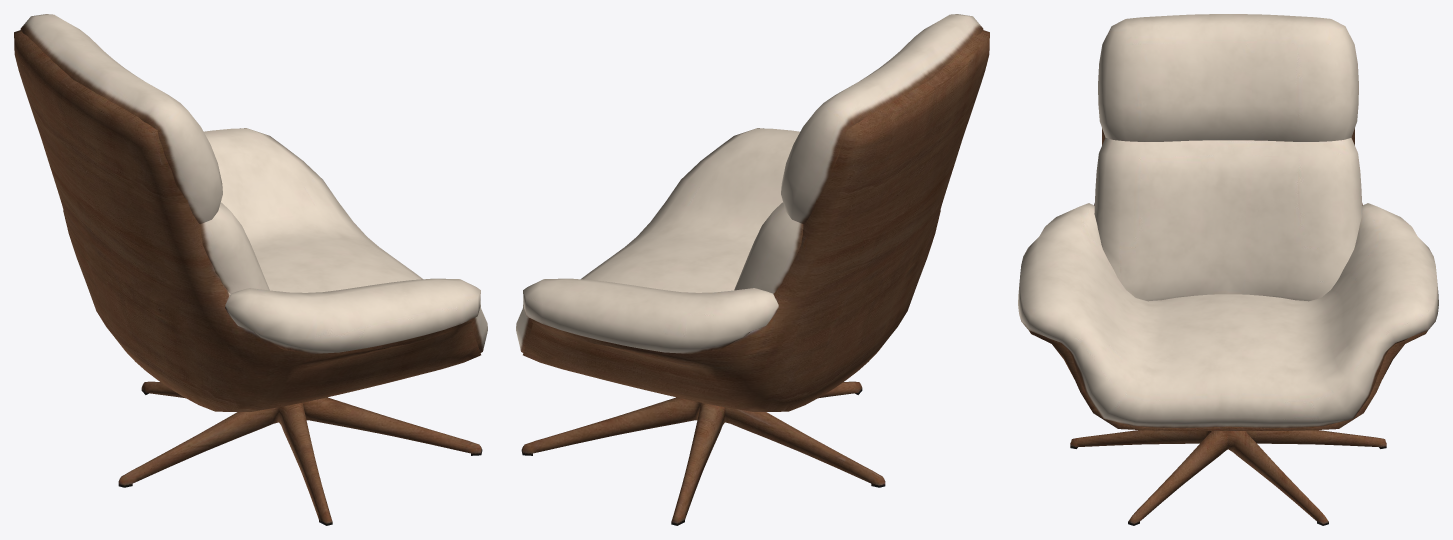
The model's file is Armchair.fbx.
3 renders of one model, left to right at view 1: azimuth 30°, elevation 25°; view 2: azimuth 150°, elevation 25°; view 3: azimuth 270°, elevation 25°, orthographic. The views are drawn at different scales.
Parts seen in each view (by area): view 1: Armchair_low; view 2: Armchair_low; view 3: Armchair_low.
Part boxes in pixels (bbox=[...]): Armchair_low: bbox=[14, 14, 487, 525]; Armchair_low: bbox=[516, 14, 989, 525]; Armchair_low: bbox=[1018, 14, 1438, 525].
Size of the model in its own units: 96.69 by 110 by 114.
Materials: 1 (1 with a texture image).
